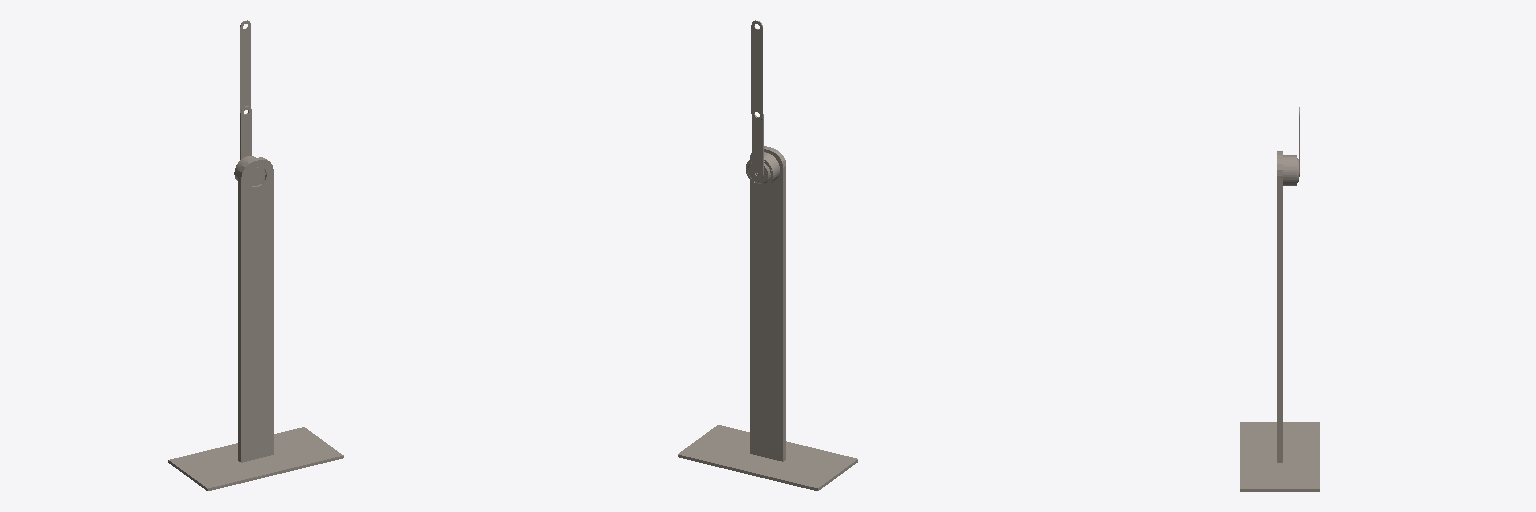
URDF robot description (INV_PEND_V2):
<?xml version="1.0" encoding="utf-8"?>
<!-- This URDF was automatically created by SolidWorks to URDF Exporter! Originally created by Stephen Brawner (brawner@gmail.com) 
     Commit Version: 1.6.0-4-g7f85cfe  Build Version: 1.6.7995.38578
     For more information, please see http://wiki.ros.org/sw_urdf_exporter -->
<robot
  name="INV_PEND_V2">
  <link
    name="base_link">
    <inertial>
      <origin
        xyz="-4.21950245696134E-07 -0.0598261359522725 -0.639461511275529"
        rpy="0 0 0" />
      <mass
        value="29.6975303679903" />
      <inertia
        ixx="3.37259709125962"
        ixy="-3.23656588857169E-07"
        ixz="3.78485310837251E-07"
        iyy="3.54884144331074"
        iyz="-3.37709126809899E-06"
        izz="0.28035879477971" />
    </inertial>
    <visual>
      <origin
        xyz="0 0 0"
        rpy="0 0 0" />
      <geometry>
        <mesh
          filename="package://INV_PEND_V2/meshes/base_link.STL" />
      </geometry>
      <material
        name="">
        <color
          rgba="0.650980392156863 0.619607843137255 0.588235294117647 1" />
      </material>
    </visual>
    <collision>
      <origin
        xyz="0 0 0"
        rpy="0 0 0" />
      <geometry>
        <mesh
          filename="package://INV_PEND_V2/meshes/base_link.STL" />
      </geometry>
    </collision>
  </link>
  <link
    name="link1">
    <inertial>
      <origin
        xyz="4.60738637491727E-17 0.00199999999999959 0.1"
        rpy="0 0 0" />
      <mass
        value="0.203403981871464" />
      <inertia
        ixx="0.000829795663478949"
        ixy="1.0170146893047E-22"
        ixz="1.56936982166104E-19"
        iyy="0.000857380807288052"
        iyz="2.58139713083518E-20"
        izz="2.78902497819098E-05" />
    </inertial>
    <visual>
      <origin
        xyz="0 0 0"
        rpy="0 0 0" />
      <geometry>
        <mesh
          filename="package://INV_PEND_V2/meshes/link1.STL" />
      </geometry>
      <material
        name="">
        <color
          rgba="0.650980392156863 0.619607843137255 0.588235294117647 1" />
      </material>
    </visual>
    <collision>
      <origin
        xyz="0 0 0"
        rpy="0 0 0" />
      <geometry>
        <mesh
          filename="package://INV_PEND_V2/meshes/link1.STL" />
      </geometry>
    </collision>
  </link>
  <joint
    name="joint1"
    type="revolute">
    <origin
      xyz="0 0 0"
      rpy="0 0 0" />
    <parent
      link="base_link" />
    <child
      link="link1" />
    <axis
      xyz="0 -1 0" />
    <limit
      lower="-3.14"
      upper="3.14"
      effort="48"
      velocity="5" />
  </joint>
  <link
    name="link2">
    <inertial>
      <origin
        xyz="-2.26330040309097E-17 0.00350000000000042 0.15"
        rpy="0 0 0" />
      <mass
        value="0.297699982255464" />
      <inertia
        ixx="0.00253318175545494"
        ixy="-1.24144411957582E-20"
        ixz="-6.89129937236512E-21"
        iyy="0.00257326897731495"
        iyz="-5.86360809497206E-19"
        izz="4.05337718333978E-05" />
    </inertial>
    <visual>
      <origin
        xyz="0 0 0"
        rpy="0 0 0" />
      <geometry>
        <mesh
          filename="package://INV_PEND_V2/meshes/link2.STL" />
      </geometry>
      <material
        name="">
        <color
          rgba="0.650980392156863 0.619607843137255 0.588235294117647 1" />
      </material>
    </visual>
    <collision>
      <origin
        xyz="0 0 0"
        rpy="0 0 0" />
      <geometry>
        <mesh
          filename="package://INV_PEND_V2/meshes/link2.STL" />
      </geometry>
    </collision>
  </link>
  <joint
    name="joint2"
    type="continuous">
    <origin
      xyz="0 0.002 0.2"
      rpy="0 0 0" />
    <parent
      link="link1" />
    <child
      link="link2" />
    <axis
      xyz="0 1 0" />
    <limit
      lower="-3.14"
      upper="3.14"
      effort="48"
      velocity="5" />
  </joint>
</robot>

--- Facts derived from the render (not from the file) ---
Views: 3 orthographic renders of the robot side by side, from view 1: azimuth 30°, elevation 25°; view 2: azimuth 150°, elevation 25°; view 3: azimuth 270°, elevation 25°.
Robot: INV_PEND_V2 — 3 links, 2 joints (1 revolute, 1 continuous); root link base_link; default pose: every joint at zero.
Links seen in each view (by area): view 1: base_link, link2, link1; view 2: base_link, link2, link1; view 3: base_link.
Boxes of the visible links, x1=… form: base_link: x1=168, y1=156, x2=343, y2=490; link2: x1=240, y1=20, x2=250, y2=114; link1: x1=240, y1=106, x2=251, y2=159; base_link: x1=678, y1=146, x2=857, y2=490; link2: x1=751, y1=20, x2=762, y2=120; link1: x1=752, y1=114, x2=763, y2=178; base_link: x1=1240, y1=151, x2=1319, y2=491.
Bounding box of the posed robot: 0.5 × 0.25 × 1.52 m (x, y, z).
3 mesh visuals loaded from 3 distinct referenced files (3 binary STL).
